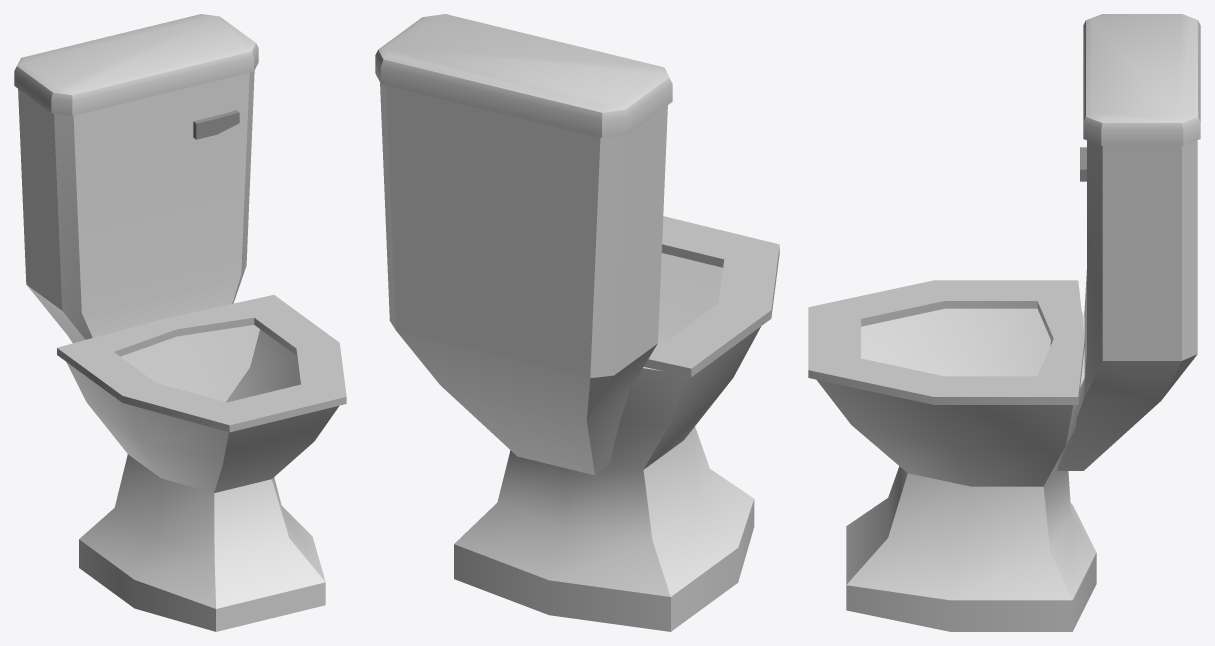
Rendered from Toilet.fbx.
The picture shows the model from 3 angles, left to right: view 1: azimuth 30°, elevation 25°; view 2: azimuth 150°, elevation 25°; view 3: azimuth 270°, elevation 25°; orthographic projection. The views are drawn at different scales.
Parts seen in each view (by area): view 1: toilet; view 2: toilet; view 3: toilet.
Boxes of the visible parts, left/top/right/bottom form: toilet: left=14, top=14, right=346, bottom=631; toilet: left=375, top=14, right=779, bottom=631; toilet: left=808, top=14, right=1200, bottom=631.
Size of the model in its own units: 793 by 1640 by 1126.
